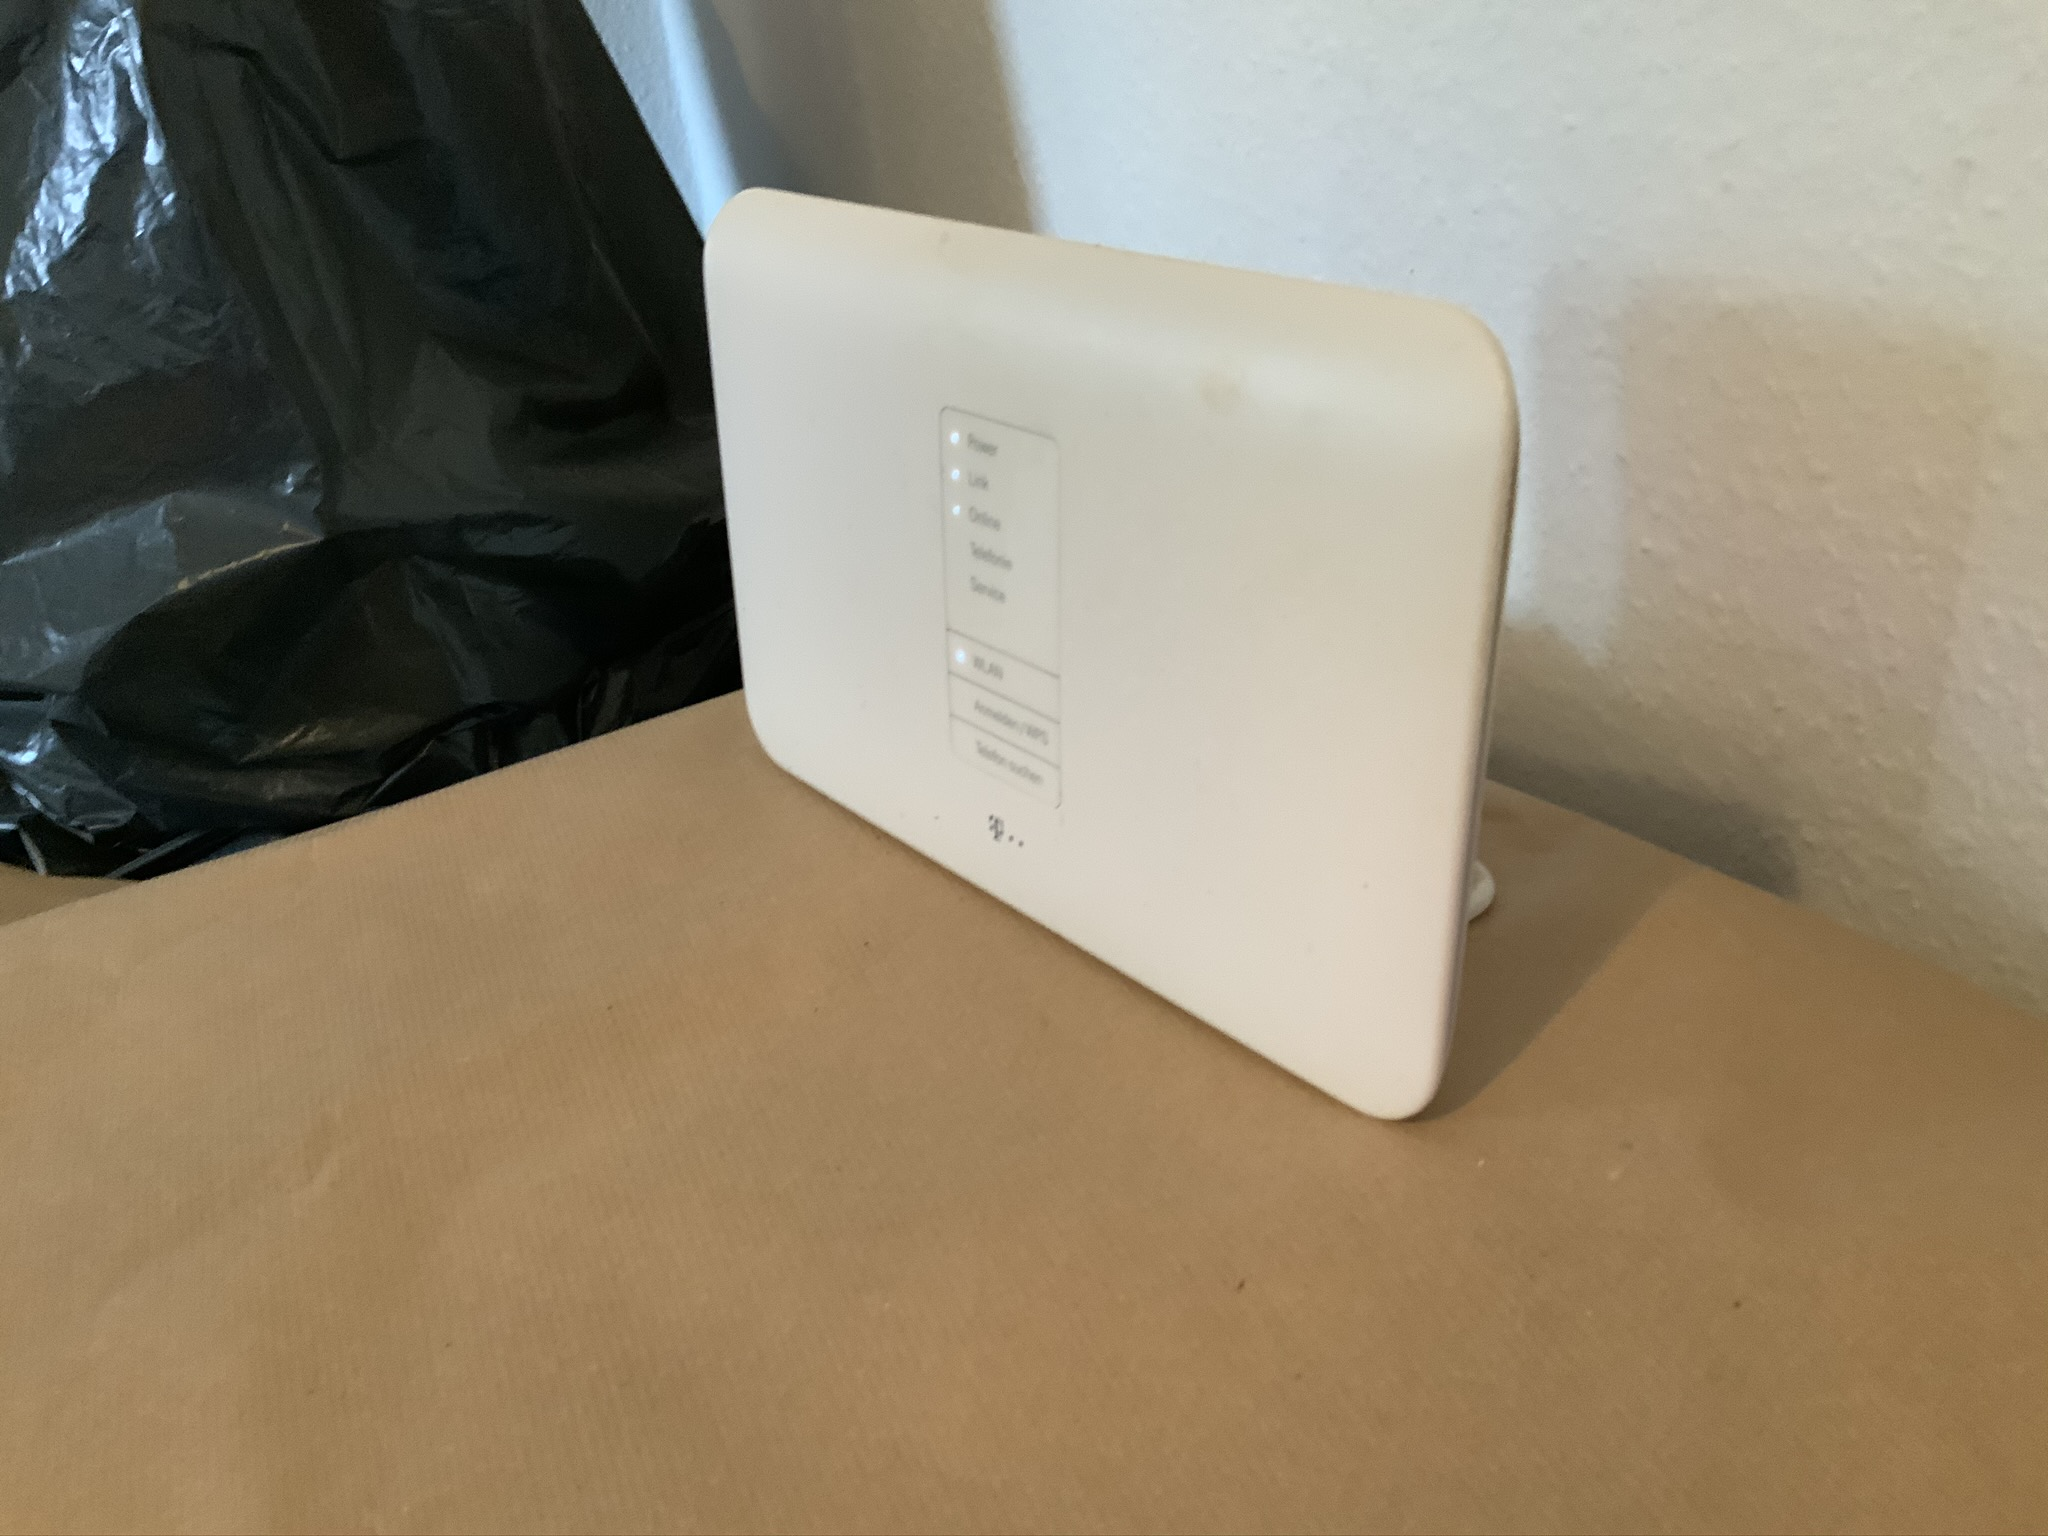router: (684, 181, 1527, 1155)
